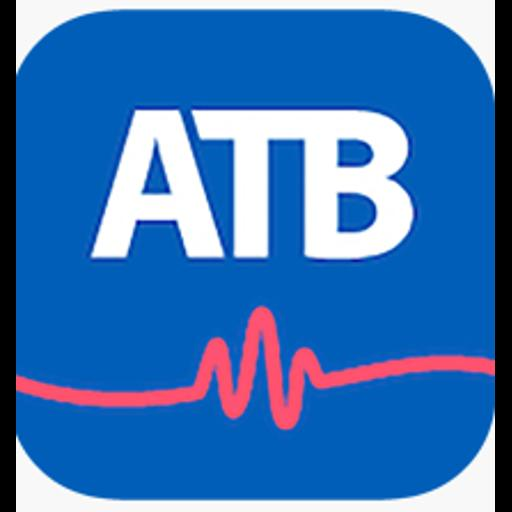ATB Financial: (16, 0, 495, 512)
